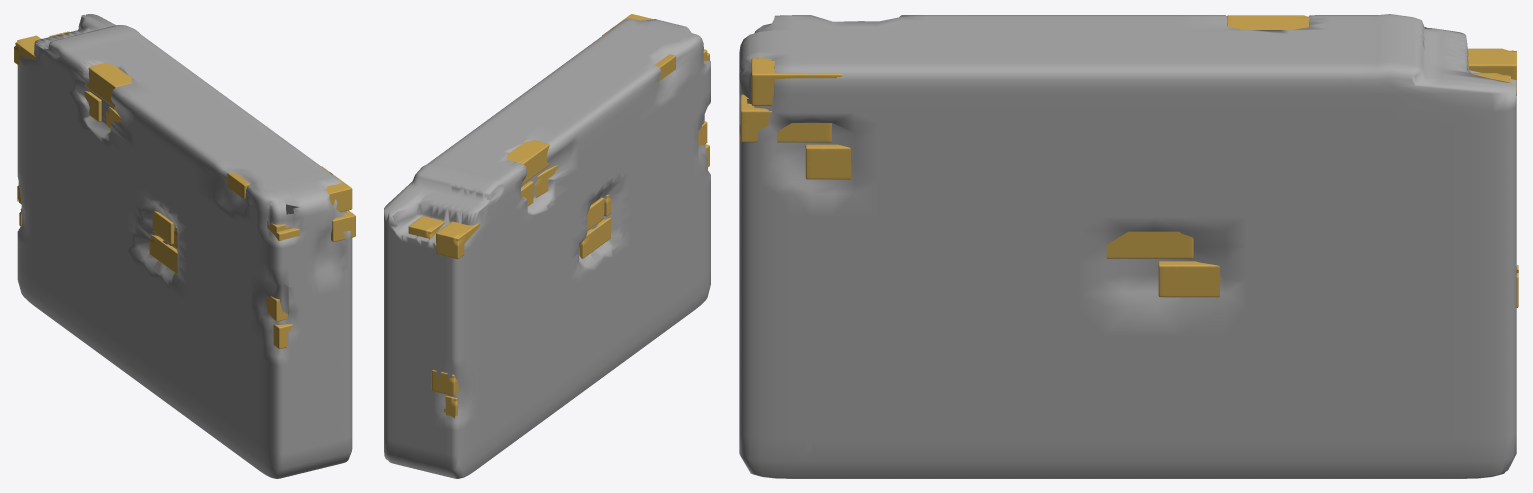
File: stena_8.fbx
3 renders of one model, left to right at view 1: azimuth 30°, elevation 25°; view 2: azimuth 150°, elevation 25°; view 3: azimuth 270°, elevation 25°, orthographic. The views are drawn at different scales.
Parts seen in each view (by area): view 1: polySurface1; view 2: polySurface1; view 3: polySurface1.
Part boxes in pixels (left/top/right/bottom): polySurface1: left=14, top=14, right=355, bottom=478; polySurface1: left=384, top=14, right=710, bottom=478; polySurface1: left=739, top=14, right=1518, bottom=478.
Bounding box in the file's own units: 1.7 × 5.44 × 9.28.
